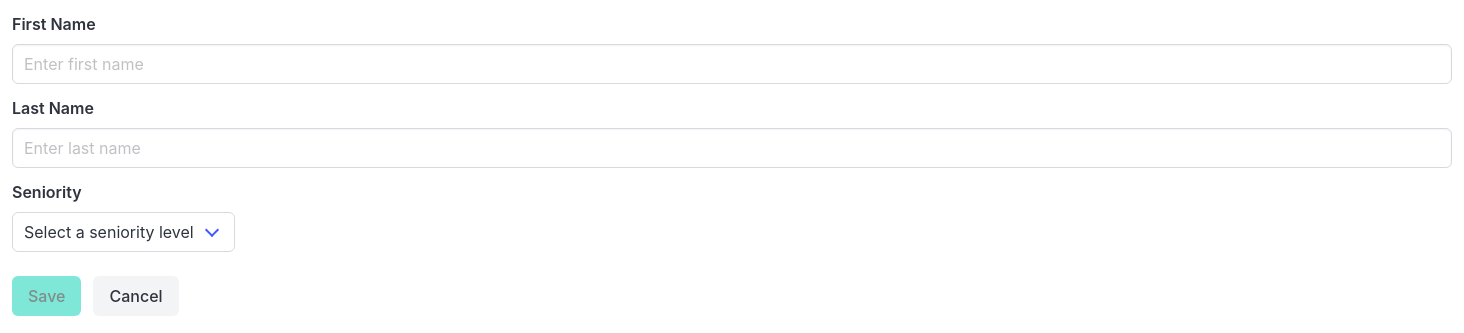
Test: MemberForm.vue › enables submit when all fields are valid
Type "Alice" into the field with placeholder "Enter first name" at point(732, 64), box [12,44,1452,84]
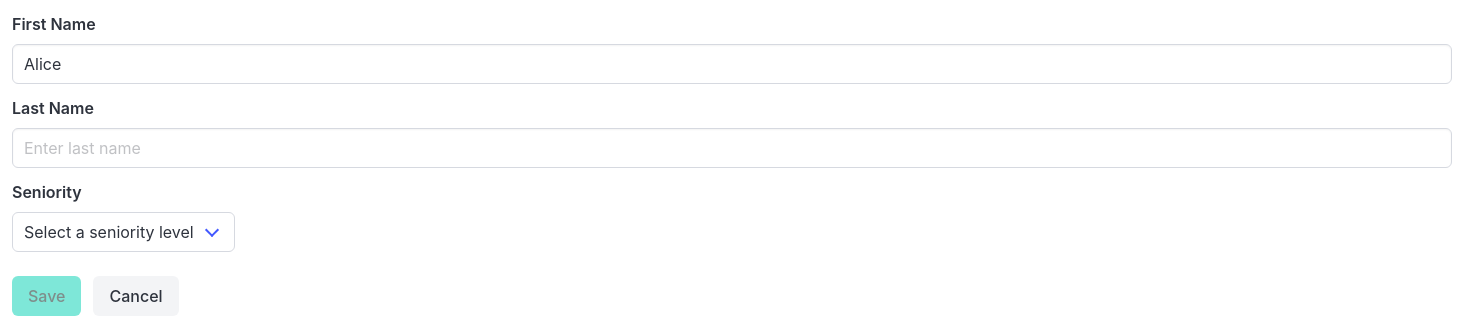
Type "Smith" into the field with placeholder "Enter last name" at point(732, 148), box [12,128,1452,168]
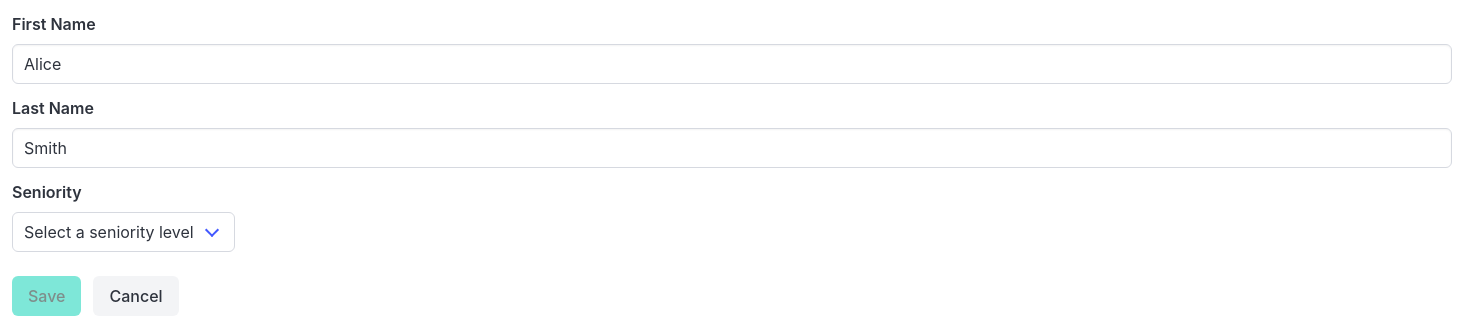
Select "Senior" in the dropdown at point(124, 232), box [12,212,235,252]
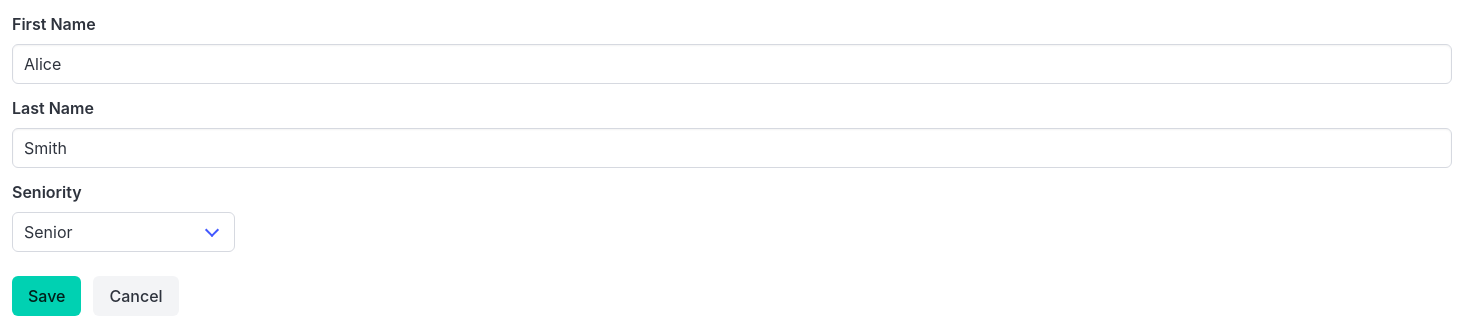
Expected: the submit button is enabled, [12,276,82,316]
